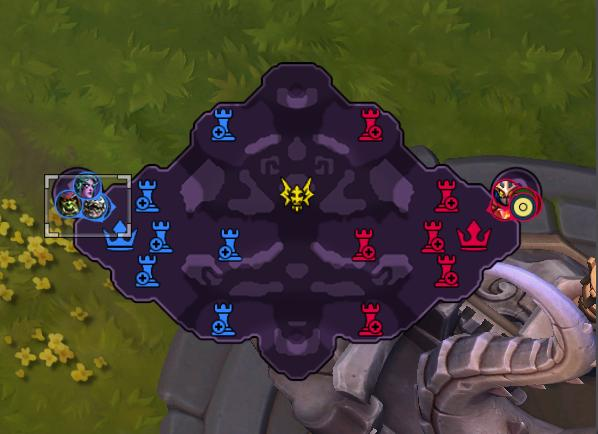blue nexus: (103, 216, 138, 251)
blue player: (80, 193, 112, 221), (72, 171, 100, 201), (54, 189, 81, 218)
blue tower: (134, 253, 160, 287), (216, 227, 242, 261), (211, 300, 236, 335), (210, 106, 235, 141), (135, 178, 160, 212), (148, 219, 173, 253), (214, 301, 232, 313), (138, 179, 156, 190), (221, 228, 239, 238)
red nexus: (455, 218, 492, 251)
red player: (507, 187, 541, 221), (491, 178, 518, 208), (486, 196, 513, 221)
red tower: (357, 300, 383, 336), (357, 106, 383, 141), (433, 253, 459, 287), (350, 227, 376, 261), (433, 178, 459, 212), (420, 219, 445, 253)
